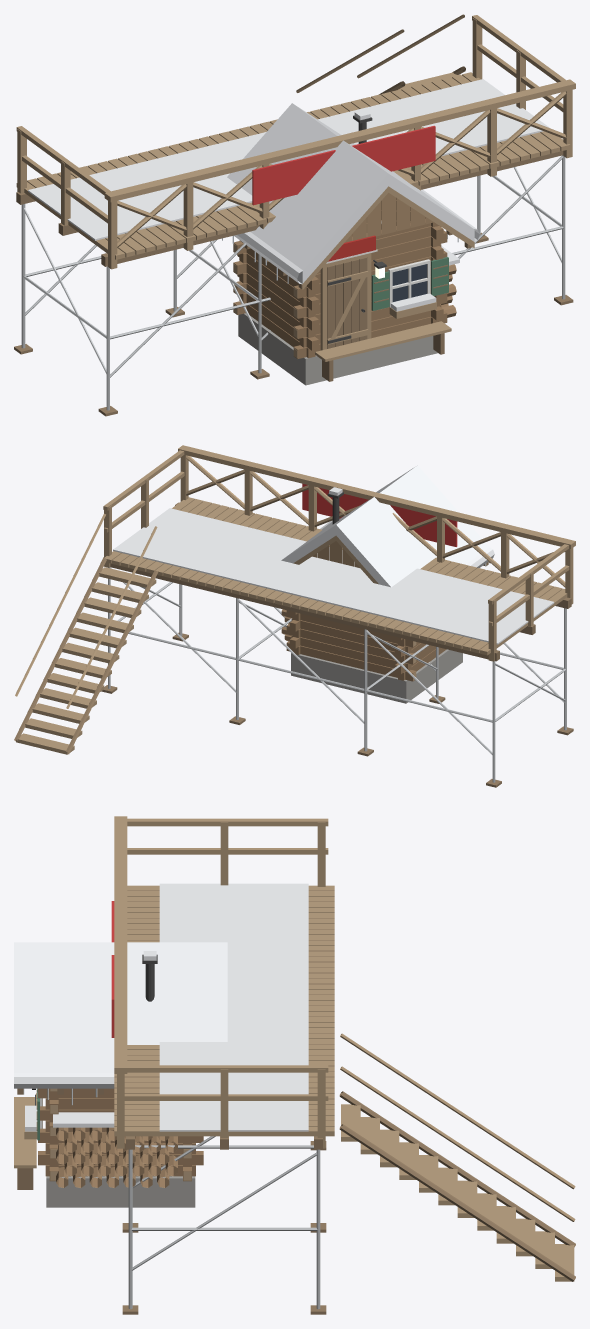
File: props.glb
3 renders of one model, top to bottom at view 1: azimuth 30°, elevation 25°; view 2: azimuth 150°, elevation 25°; view 3: azimuth 270°, elevation 25°, orthographic. The views are drawn at different scales.
Visible parts, largest first — view 1: shuttlecock_platform, finish_hut; view 2: shuttlecock_platform, finish_hut; view 3: shuttlecock_platform, finish_hut.
Boxes of the visible parts, <box> form: shuttlecock_platform: <box>14,14,575,416</box>; finish_hut: <box>222,103,479,385</box>; shuttlecock_platform: <box>14,445,575,787</box>; finish_hut: <box>281,465,494,703</box>; shuttlecock_platform: <box>111,816,575,1314</box>; finish_hut: <box>14,942,227,1207</box>.
Size of the model in its own units: 9.24 by 4.32 by 8.68.
